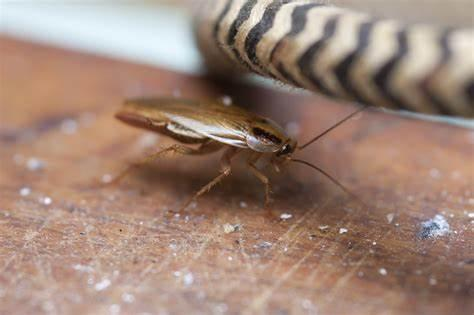cockroach: (106, 90, 309, 178)
